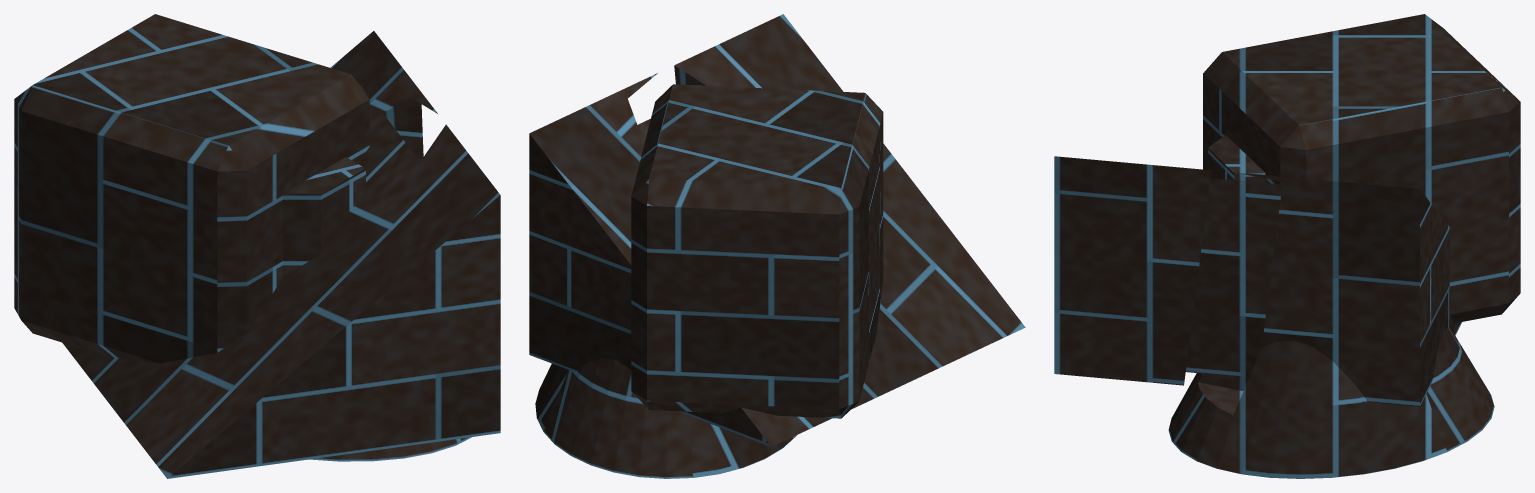
The picture shows the model from 3 angles, left to right: view 1: azimuth 30°, elevation 25°; view 2: azimuth 150°, elevation 25°; view 3: azimuth 270°, elevation 25°; orthographic projection. The views are drawn at different scales.
Visible parts, largest first — view 1: geometry_0; view 2: geometry_0; view 3: geometry_0.
Part boxes in pixels (x1=…): geometry_0: x1=14, y1=14, x2=500, y2=478; geometry_0: x1=529, y1=14, x2=1025, y2=478; geometry_0: x1=1054, y1=14, x2=1520, y2=478.
Size of the model in its own units: 2.08 by 1.63 by 2.3.
Materials: 1 (1 with a texture image).
